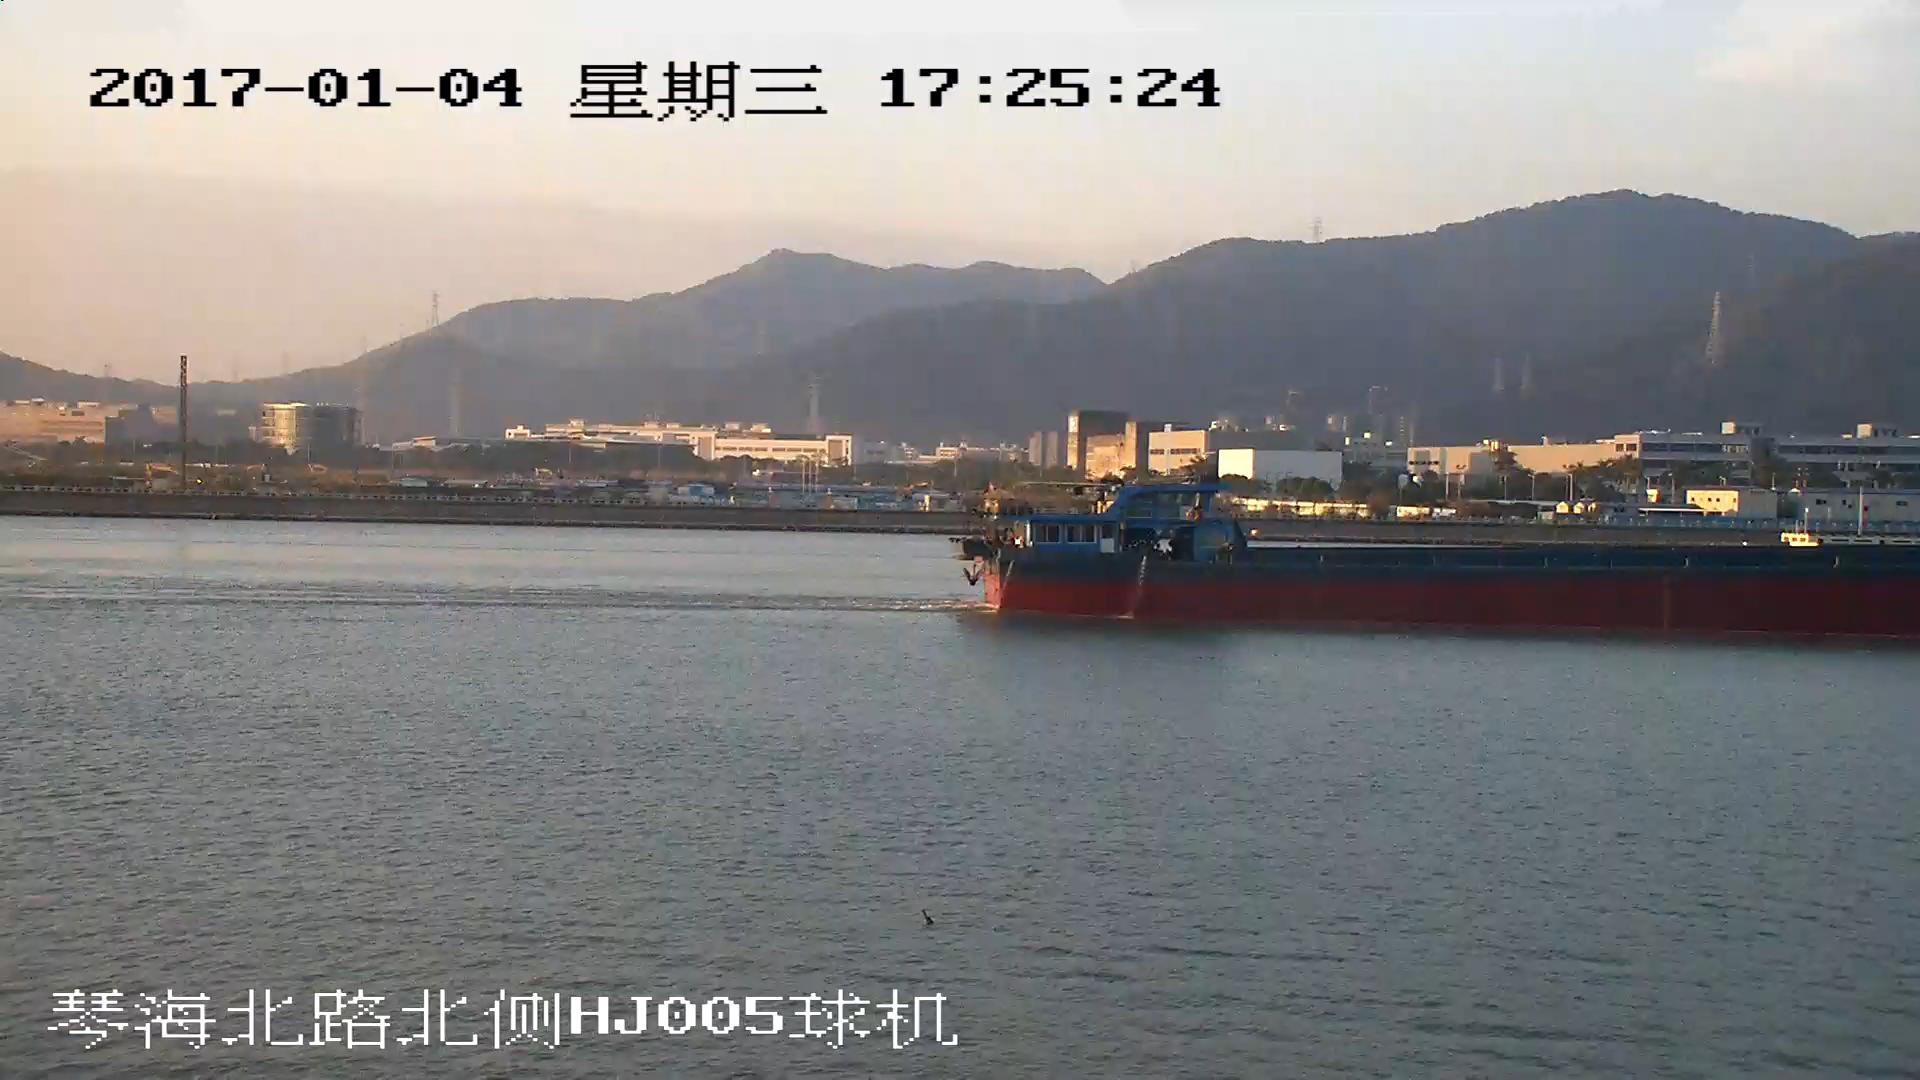general cargo ship: (960, 476, 1920, 622)
